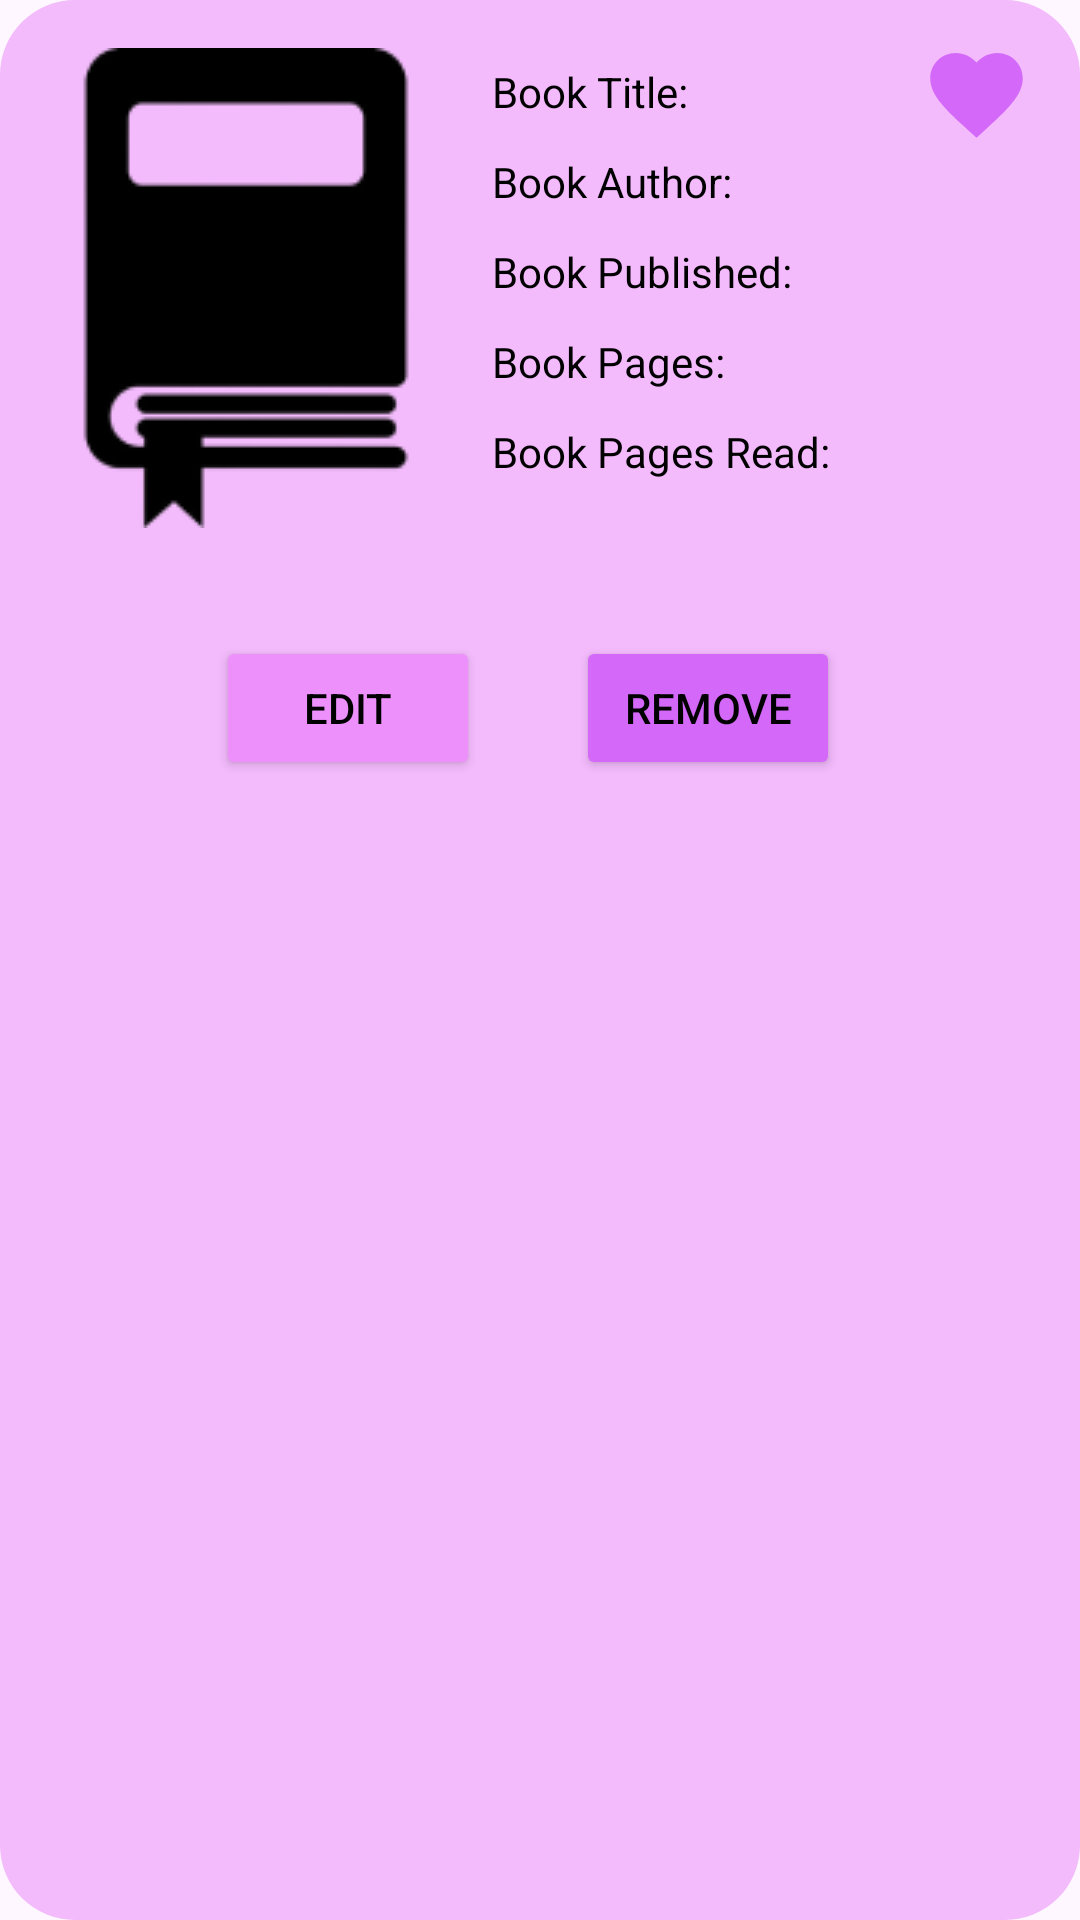

Icons on this 1080 x 1920 Android screen, each with the point to tap as point (x, y):
favorite: point (976, 95)
